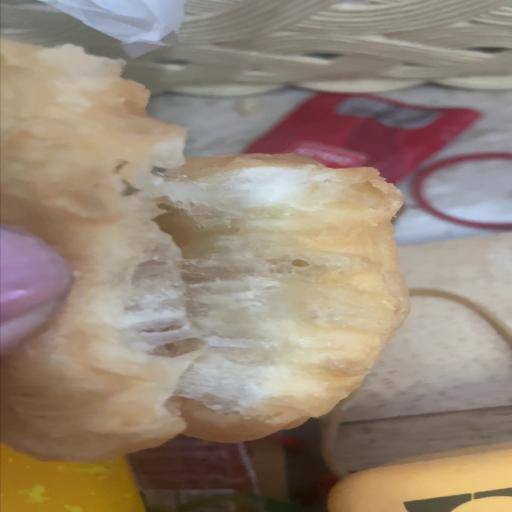street_golden_defect: (0, 118, 406, 454)
